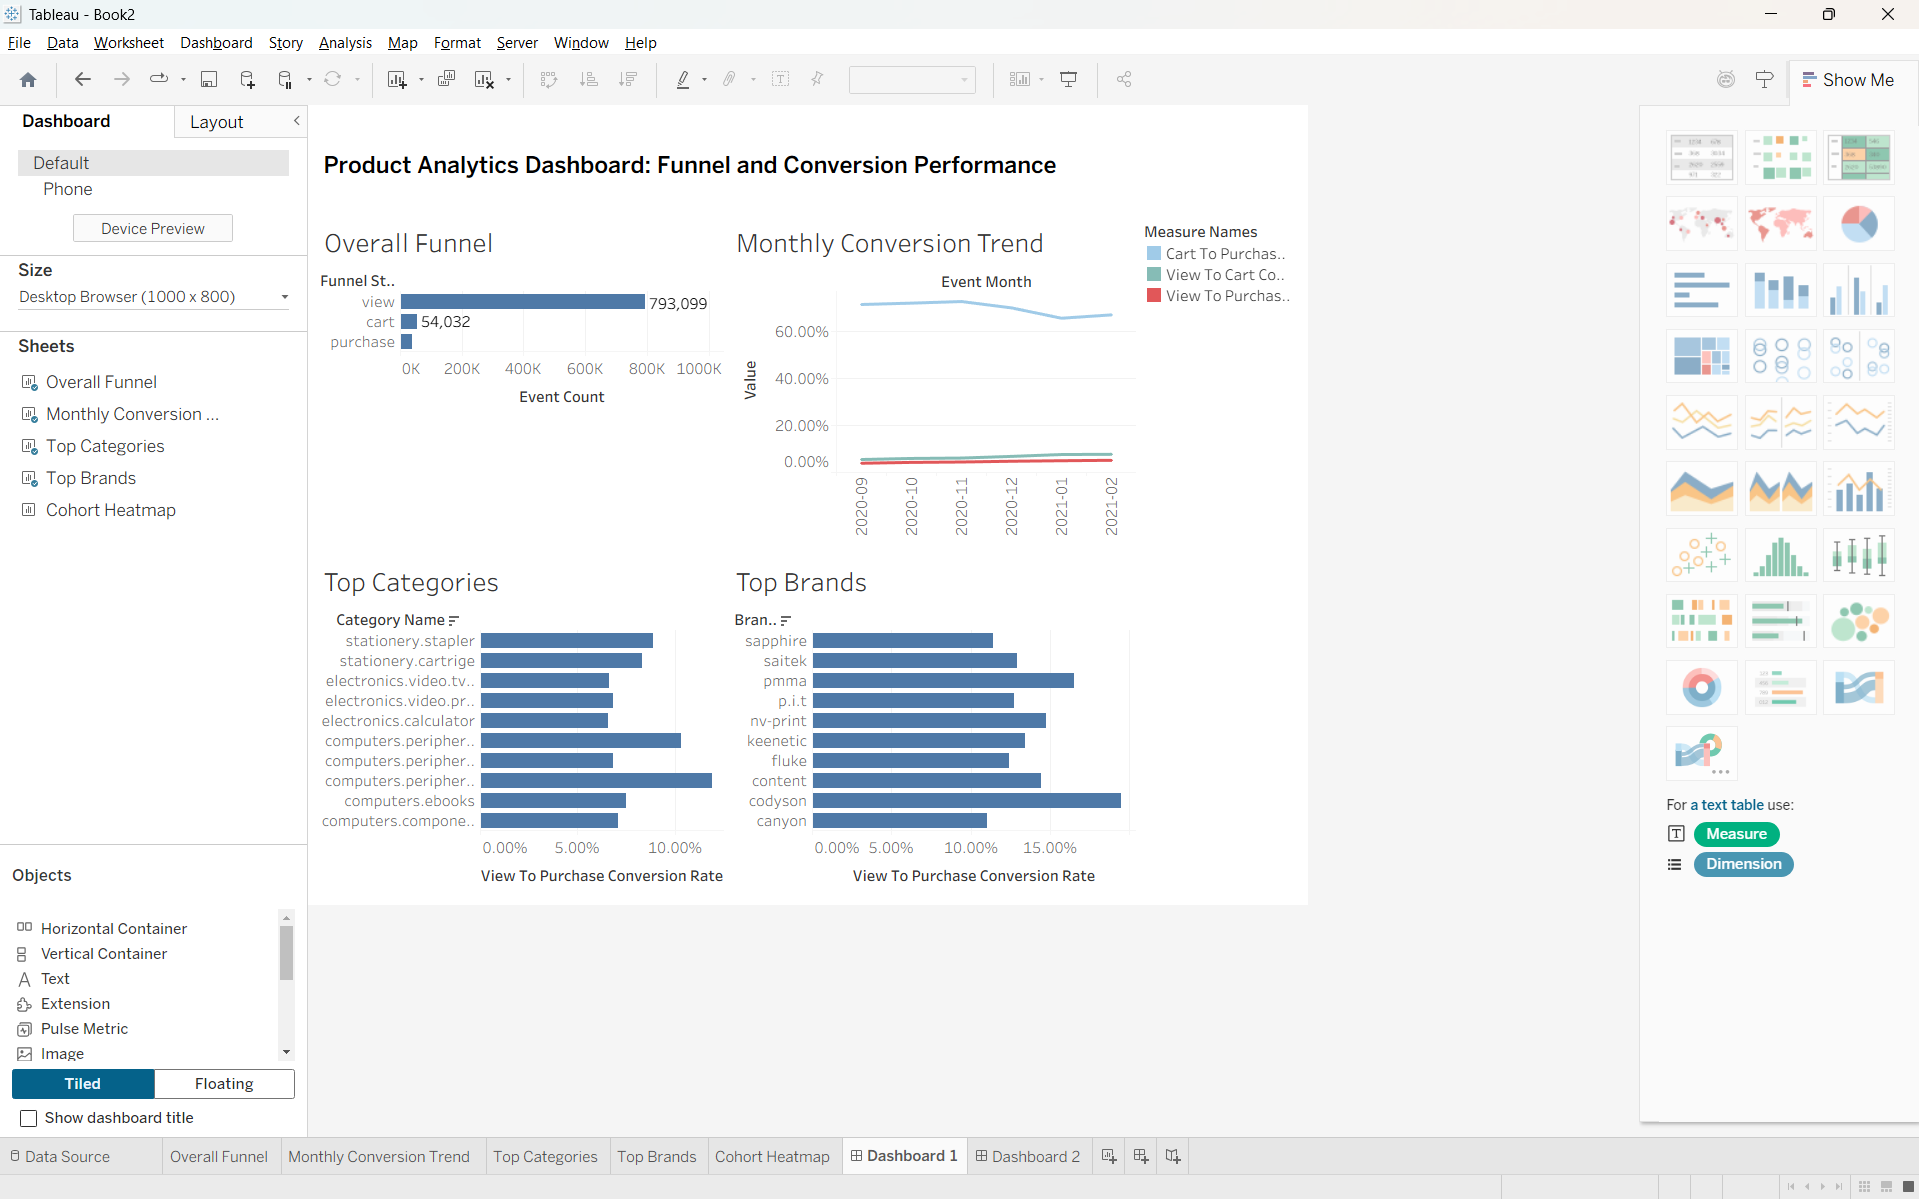

This screenshot's page, from the dashboard's own definition file:
{"tool":"tableau","page":{"name":"Dashboard 1","canvas":[1000,800],"ordinal":0},"visuals":[{"type":"text","box":[8,8,984,104]},{"type":"worksheet","title":"Overall Funnel","mark":"Automatic","rows":["funnel_stage"],"cols":["event_count"],"box":[8,112,412,339]},{"type":"worksheet","title":"Monthly Conversion Trend","mark":"Line","cols":["event_month"],"box":[420,112,412,339]},{"type":"legend","title":"Monthly Conversion Trend","param":"[federated.0lxka5d0aqaj6k172yf431b4xb1k].[:Measure Names]","box":[832,112,160,93]},{"type":"worksheet","title":"Top Categories","mark":"Bar","rows":["category_name"],"cols":["view_to_purchase_conversion_rate"],"box":[8,451,412,341]},{"type":"worksheet","title":"Top Brands","mark":"Bar","rows":["brand_name"],"cols":["view_to_purchase_conversion_rate"],"box":[420,451,412,341]}]}

Visuals, with their boxes on the page's 1000x800 design canvas (x1, y1, x2, y2). These are canvas units, not pixel positions in the 1919x1199 screenshot, which may show the page scaled, cropped or inside an application window:
text: <region>8, 8, 992, 112</region>
"Overall Funnel" worksheet: <region>8, 112, 420, 451</region>
"Monthly Conversion Trend" worksheet (Line marks): <region>420, 112, 832, 451</region>
"Monthly Conversion Trend" legend: <region>832, 112, 992, 205</region>
"Top Categories" worksheet (Bar marks): <region>8, 451, 420, 792</region>
"Top Brands" worksheet (Bar marks): <region>420, 451, 832, 792</region>
